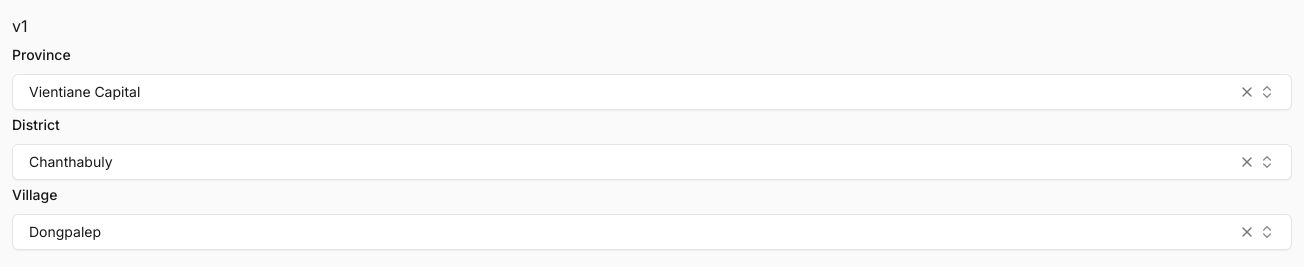
it: PlacePickerField › empties the field when the province is cleared
Click the 1st button named "Remove": [1247, 92] box [1239, 84, 1255, 100]
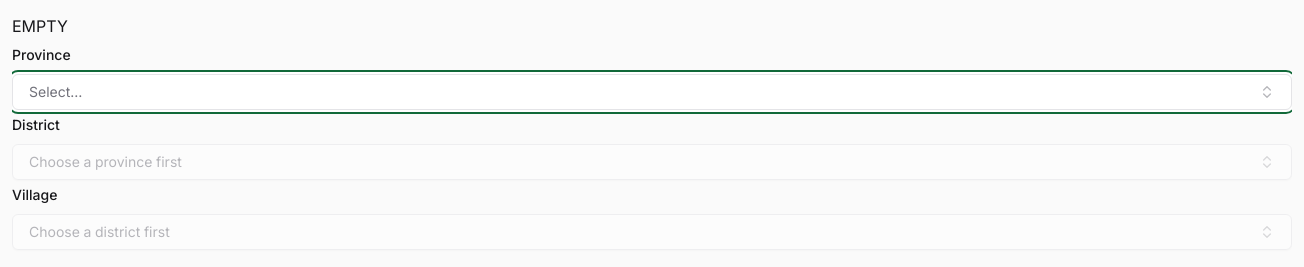
Now the text with test id "value" reads "EMPTY", box [12, 13, 68, 39]
